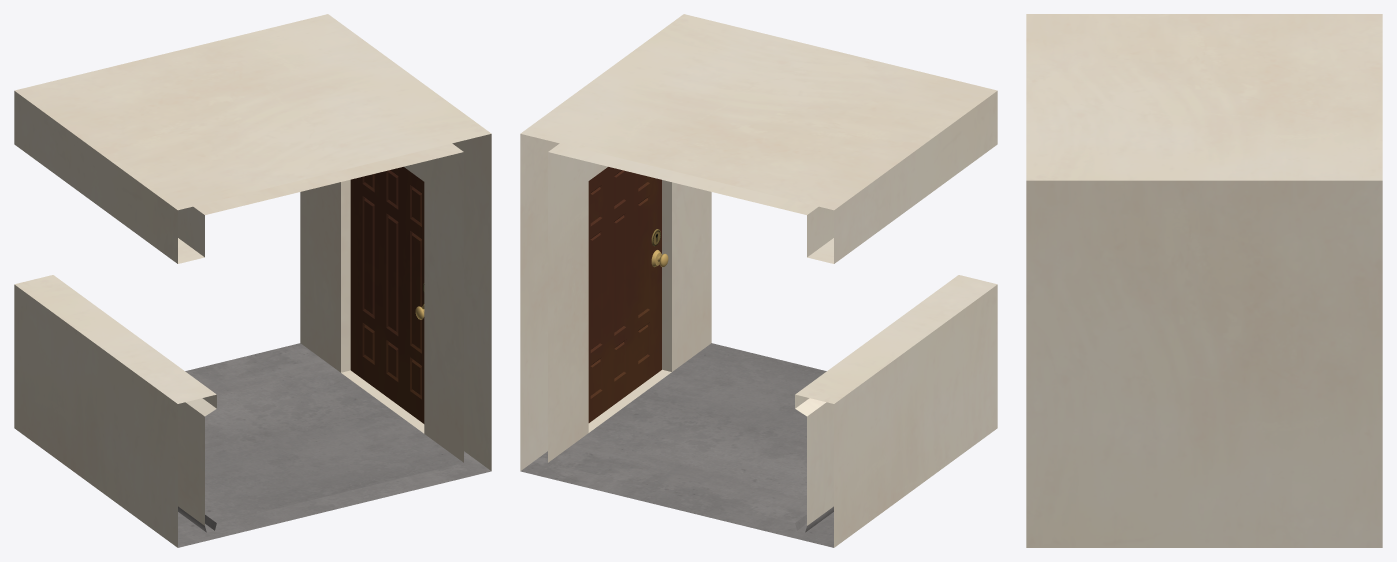
The model's file is DoorPc.fbx.
The picture shows the model from 3 angles, left to right: view 1: azimuth 30°, elevation 25°; view 2: azimuth 150°, elevation 25°; view 3: azimuth 270°, elevation 25°; orthographic projection. The views are drawn at different scales.
Parts seen in each view (by area): view 1: door4; view 2: door4; view 3: door4.
Part boxes in pixels (x1,y1,x2,y2): door4: (14, 14, 491, 547); door4: (520, 14, 997, 547); door4: (1026, 14, 1382, 547).
Bounding box in the file's own units: 2.89 × 2.97 × 2.61.
